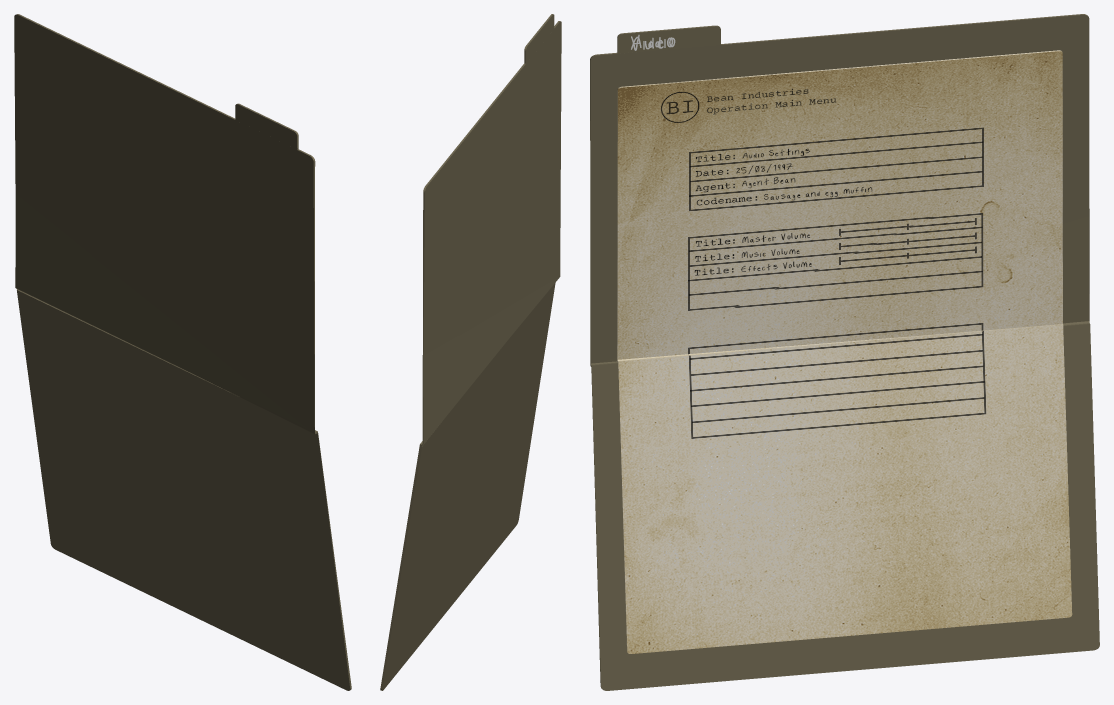
File: MainMenuPapers.fbx
The picture shows the model from 3 angles, left to right: view 1: azimuth 30°, elevation 25°; view 2: azimuth 150°, elevation 25°; view 3: azimuth 270°, elevation 25°; orthographic projection. The views are drawn at different scales.
Visible parts, largest first — view 1: Papers.001; view 2: Papers.001; view 3: Papers.001.
Part boxes in pixels (x1,y1,x2,y2): Papers.001: (14, 14, 351, 690); Papers.001: (380, 14, 561, 690); Papers.001: (590, 14, 1099, 690).
Bounding box in the file's own units: 20.47 × 92.58 × 67.69.
Materials: 4 (2 with a texture image).
